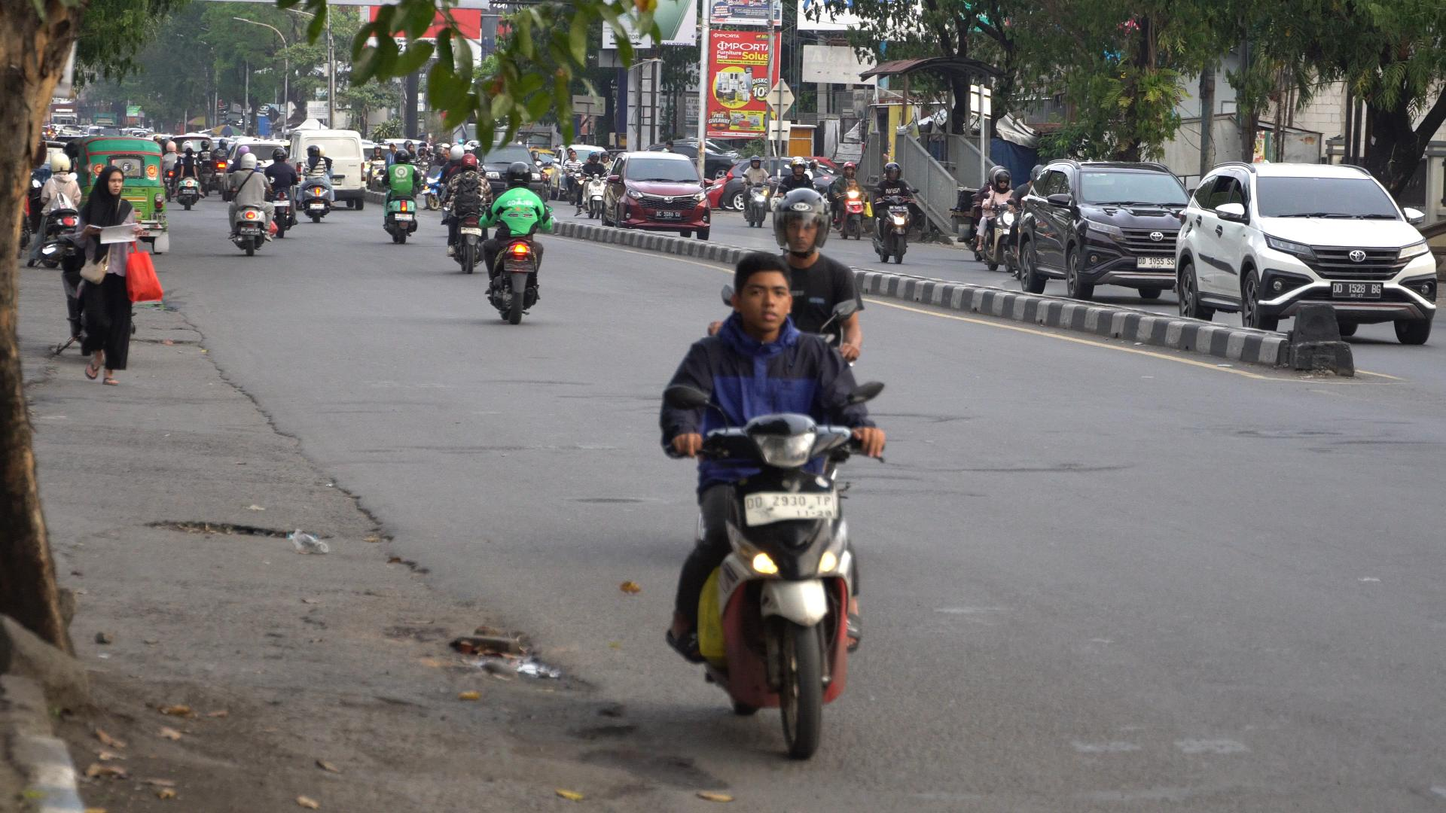number-plate: (743, 489, 837, 526)
